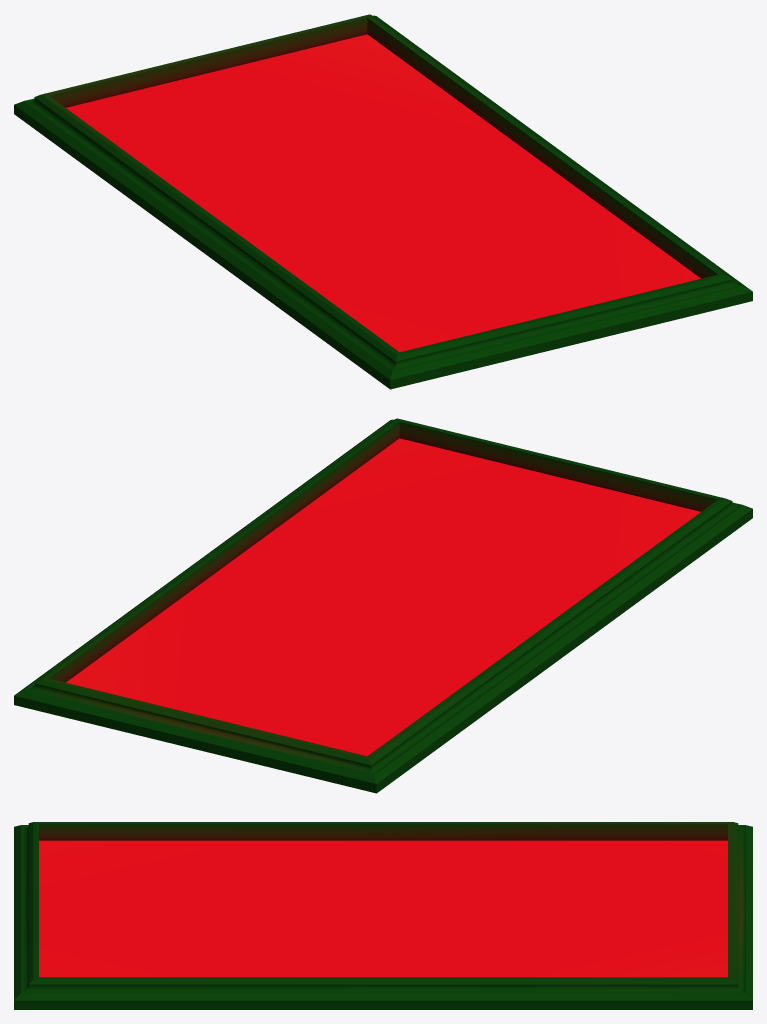
Rendered from sideboard.fbx.
The picture shows the model from 3 angles, top to bottom: view 1: azimuth 30°, elevation 25°; view 2: azimuth 150°, elevation 25°; view 3: azimuth 270°, elevation 25°; orthographic projection.
Parts seen in each view (by area): view 1: Cube; view 2: Cube; view 3: Cube.
Boxes of the visible parts, left/top/right/bottom form: Cube: left=14, top=14, right=752, bottom=389; Cube: left=14, top=418, right=752, bottom=793; Cube: left=14, top=822, right=752, bottom=1009.
Bounding box in the file's own units: 1430 × 85.04 × 2570.
